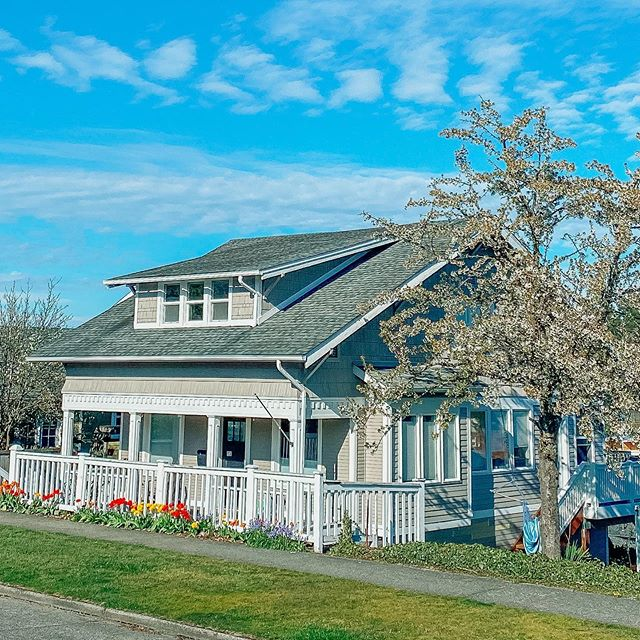building: (70, 219, 573, 557)
sky: (1, 1, 640, 205)
tree: (367, 108, 640, 546)
